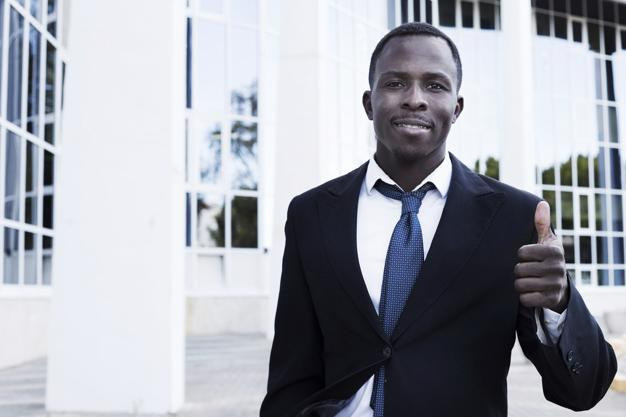thumbsup: (514, 201, 566, 307)
